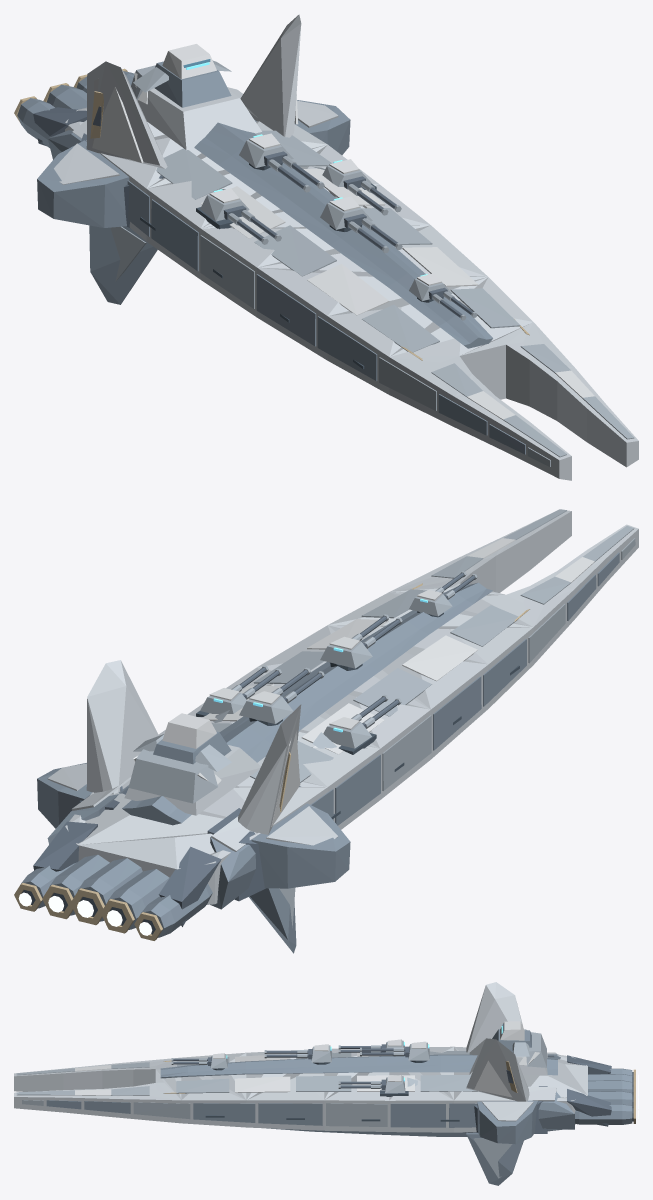
Rendered from NX02_Battleship_V5_Integrated_Hull.glb.
3 renders of one model, top to bottom at view 1: azimuth 30°, elevation 25°; view 2: azimuth 150°, elevation 25°; view 3: azimuth 270°, elevation 25°, orthographic. The views are drawn at different scales.
Parts seen in each view (by area): view 1: NX02_Battleship_V5_armor, NX02_Battleship_V5_shadow, NX02_Battleship_V5_steel, NX02_Battleship_V5_white, NX02_Battleship_V5_dark, NX02_Battleship_V5_gold, NX02_Battleship_V5_carbon; view 2: NX02_Battleship_V5_armor, NX02_Battleship_V5_shadow, NX02_Battleship_V5_steel, NX02_Battleship_V5_white, NX02_Battleship_V5_dark, NX02_Battleship_V5_gold, NX02_Battleship_V5_carbon, NX02_Battleship_V5_plasma; view 3: NX02_Battleship_V5_armor, NX02_Battleship_V5_shadow, NX02_Battleship_V5_steel, NX02_Battleship_V5_white, NX02_Battleship_V5_dark, NX02_Battleship_V5_carbon, NX02_Battleship_V5_gold.
Part boxes in pixels (x1=…): NX02_Battleship_V5_armor: x1=54, y1=14, x2=638, y2=480; NX02_Battleship_V5_shadow: x1=17, y1=61, x2=525, y2=454; NX02_Battleship_V5_steel: x1=110, y1=60, x2=634, y2=466; NX02_Battleship_V5_white: x1=92, y1=44, x2=594, y2=419; NX02_Battleship_V5_dark: x1=33, y1=106, x2=473, y2=317; NX02_Battleship_V5_gold: x1=14, y1=68, x2=529, y2=360; NX02_Battleship_V5_carbon: x1=140, y1=163, x2=443, y2=368; NX02_Battleship_V5_armor: x1=47, y1=510, x2=638, y2=904; NX02_Battleship_V5_shadow: x1=21, y1=552, x2=619, y2=953; NX02_Battleship_V5_steel: x1=128, y1=509, x2=635, y2=927; NX02_Battleship_V5_white: x1=133, y1=538, x2=594, y2=826; NX02_Battleship_V5_dark: x1=33, y1=573, x2=475, y2=926; NX02_Battleship_V5_gold: x1=14, y1=583, x2=529, y2=940; NX02_Battleship_V5_carbon: x1=22, y1=611, x2=519, y2=934; NX02_Battleship_V5_plasma: x1=18, y1=892, x2=152, y2=935; NX02_Battleship_V5_armor: x1=14, y1=982, x2=587, y2=1132; NX02_Battleship_V5_shadow: x1=46, y1=1029, x2=632, y2=1185; NX02_Battleship_V5_steel: x1=16, y1=1029, x2=546, y2=1178; NX02_Battleship_V5_white: x1=75, y1=1021, x2=539, y2=1097; NX02_Battleship_V5_dark: x1=173, y1=1044, x2=611, y2=1133; NX02_Battleship_V5_carbon: x1=205, y1=1060, x2=633, y2=1121; NX02_Battleship_V5_gold: x1=163, y1=1060, x2=635, y2=1123.
Size of the model in its own units: 16.16 by 12.55 by 48.14.
